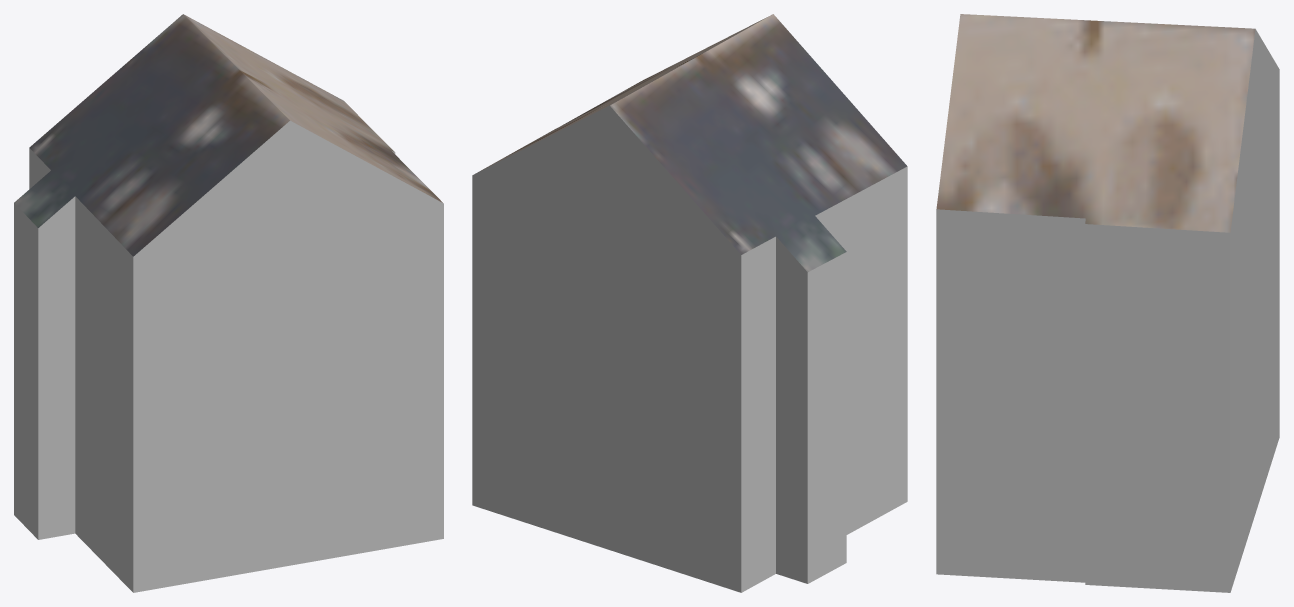
The model's file is DEBW_0010007Tx4Q.gltf.
The picture shows the model from 3 angles, left to right: view 1: azimuth 30°, elevation 25°; view 2: azimuth 150°, elevation 25°; view 3: azimuth 270°, elevation 25°; orthographic projection. The views are drawn at different scales.
Visible parts, largest first — view 1: Z_UP; view 2: Z_UP; view 3: Z_UP.
Part boxes in pixels (<box>): Z_UP: <box>14,14,443,592</box>; Z_UP: <box>472,14,907,592</box>; Z_UP: <box>936,14,1279,592</box>.
Size of the model in its own units: 12.75 by 15.94 by 10.22.
Materials: 2 (1 with a texture image).
